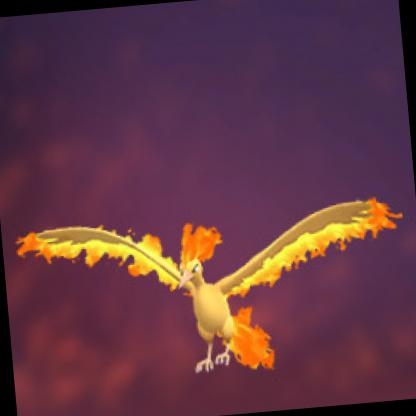Moltres: (1, 33, 416, 416)
